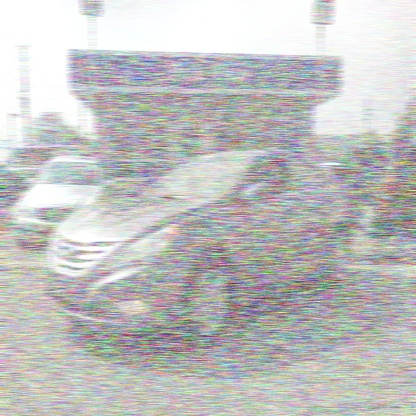Vehicle: (38, 129, 368, 358)
